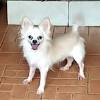Bulldog: (8, 12, 97, 96)
